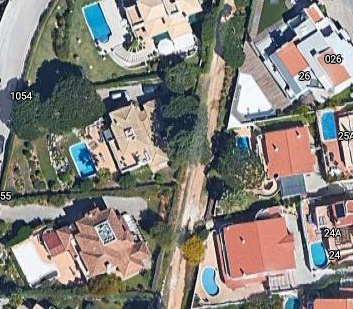pool: (83, 8, 112, 41), (71, 145, 96, 175), (311, 244, 330, 270), (201, 270, 220, 295), (321, 113, 337, 138), (236, 136, 252, 157)
